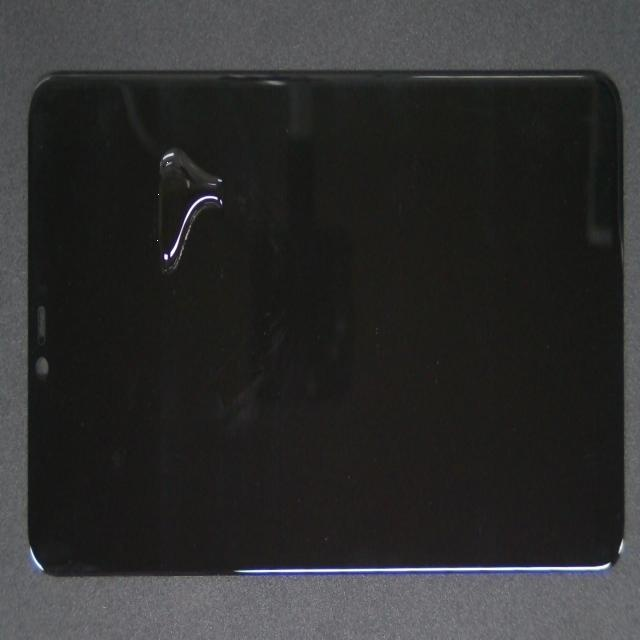oil: (126, 91, 312, 241)
